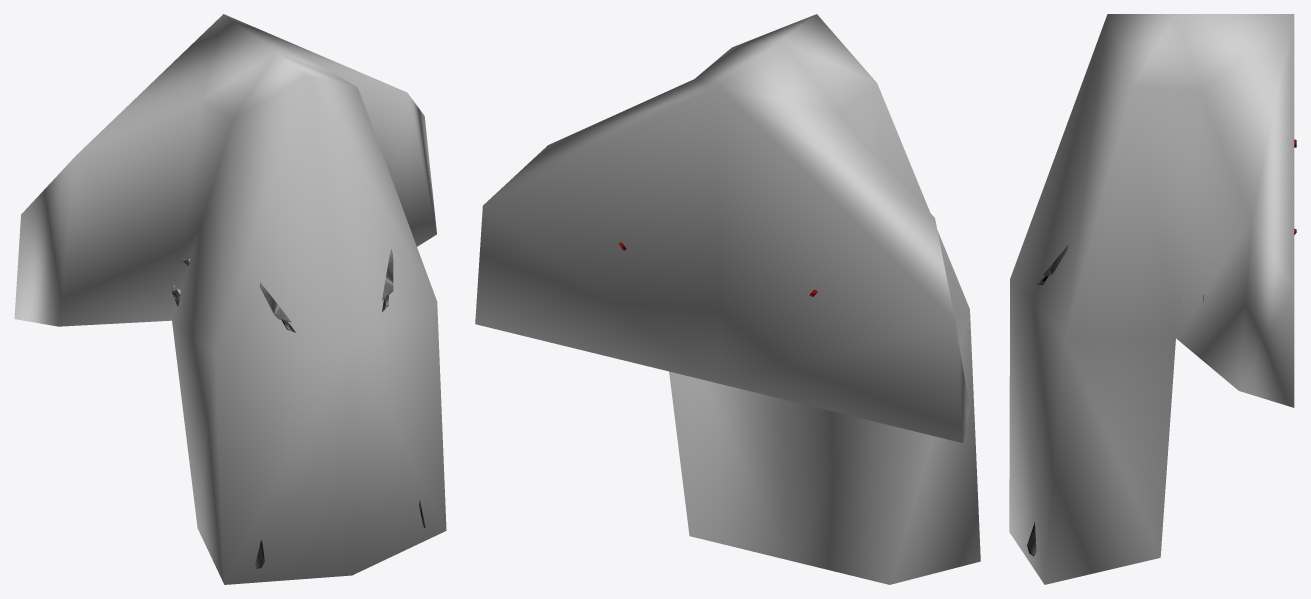
Rendered from transport_ship.fbx.
3 renders of one model, left to right at view 1: azimuth 30°, elevation 25°; view 2: azimuth 150°, elevation 25°; view 3: azimuth 270°, elevation 25°, orthographic. The views are drawn at different scales.
Visible parts, largest first — view 1: 0000_transport_ship, 0001_transport_ship; view 2: 0000_transport_ship; view 3: 0000_transport_ship, 0001_transport_ship.
Boxes of the visible parts, <box> form: 0000_transport_ship: <box>14,14,446,584</box>; 0001_transport_ship: <box>171,249,425,568</box>; 0000_transport_ship: <box>475,14,980,584</box>; 0000_transport_ship: <box>1009,14,1294,584</box>; 0001_transport_ship: <box>1027,139,1296,556</box>.
Bounding box in the file's own units: 35.61 × 38.16 × 19.18.
